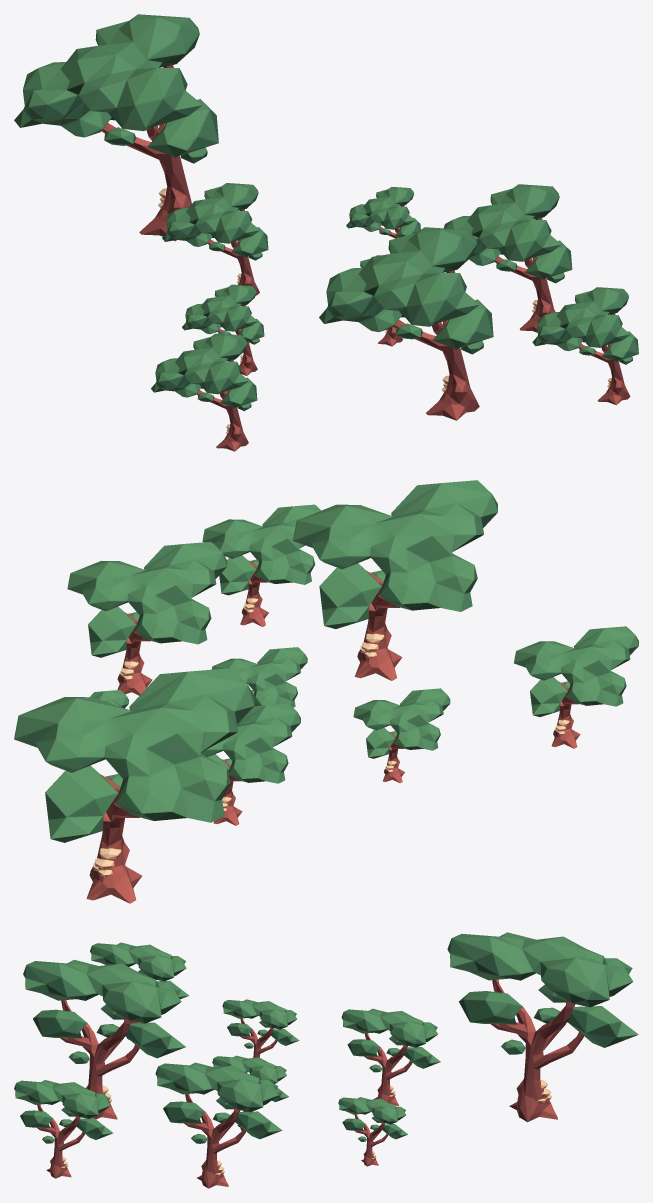
File: trees.glb
The picture shows the model from 3 angles, top to bottom: view 1: azimuth 30°, elevation 25°; view 2: azimuth 150°, elevation 25°; view 3: azimuth 270°, elevation 25°; orthographic projection. The views are drawn at different scales.
Parts seen in each view (by area): view 1: Object_2.004, Object_2.007, Object_2.002, Object_2.003, Object_2.006, Object_2.001, Object_2.005, Object_2; view 2: Object_2.004, Object_2.007, Object_2.002, Object_2.003, Object_2.006, Object_2.001, Object_2.005, Object_2.008; view 3: Object_2.004, Object_2.007, Object_2.002, Object_2.006, Object_2.001, Object_2.005, Object_2.003, Object_2, Object_2.008.
Boxes of the visible parts, x1=… form: Object_2.004: x1=14, y1=14, x2=218, y2=241; Object_2.007: x1=319, y1=227, x2=493, y2=420; Object_2.002: x1=444, y1=184, x2=572, y2=332; Object_2.003: x1=151, y1=333, x2=257, y2=451; Object_2.006: x1=532, y1=287, x2=638, y2=405; Object_2.001: x1=162, y1=183, x2=268, y2=295; Object_2.005: x1=182, y1=284, x2=264, y2=375; Object_2: x1=346, y1=187, x2=420, y2=238; Object_2.004: x1=14, y1=668, x2=254, y2=903; Object_2.007: x1=293, y1=480, x2=497, y2=680; Object_2.002: x1=67, y1=542, x2=227, y2=695; Object_2.003: x1=514, y1=626, x2=638, y2=748; Object_2.006: x1=202, y1=504, x2=320, y2=626; Object_2.001: x1=201, y1=703, x2=300, y2=825; Object_2.005: x1=353, y1=688, x2=450, y2=783; Object_2.008: x1=212, y1=647, x2=307, y2=707; Object_2.004: x1=447, y1=932, x2=638, y2=1122; Object_2.007: x1=23, y1=959, x2=185, y2=1119; Object_2.002: x1=155, y1=1062, x2=282, y2=1188; Object_2.006: x1=14, y1=1080, x2=113, y2=1178; Object_2.001: x1=341, y1=1008, x2=440, y2=1105; Object_2.005: x1=222, y1=999, x2=299, y2=1057; Object_2.003: x1=90, y1=942, x2=189, y2=1039; Object_2: x1=338, y1=1097, x2=407, y2=1166; Object_2.008: x1=212, y1=1055, x2=288, y2=1130.
Size of the model in its own units: 25.47 by 10.31 by 36.16.
Materials: 9 (9 with a texture image).
